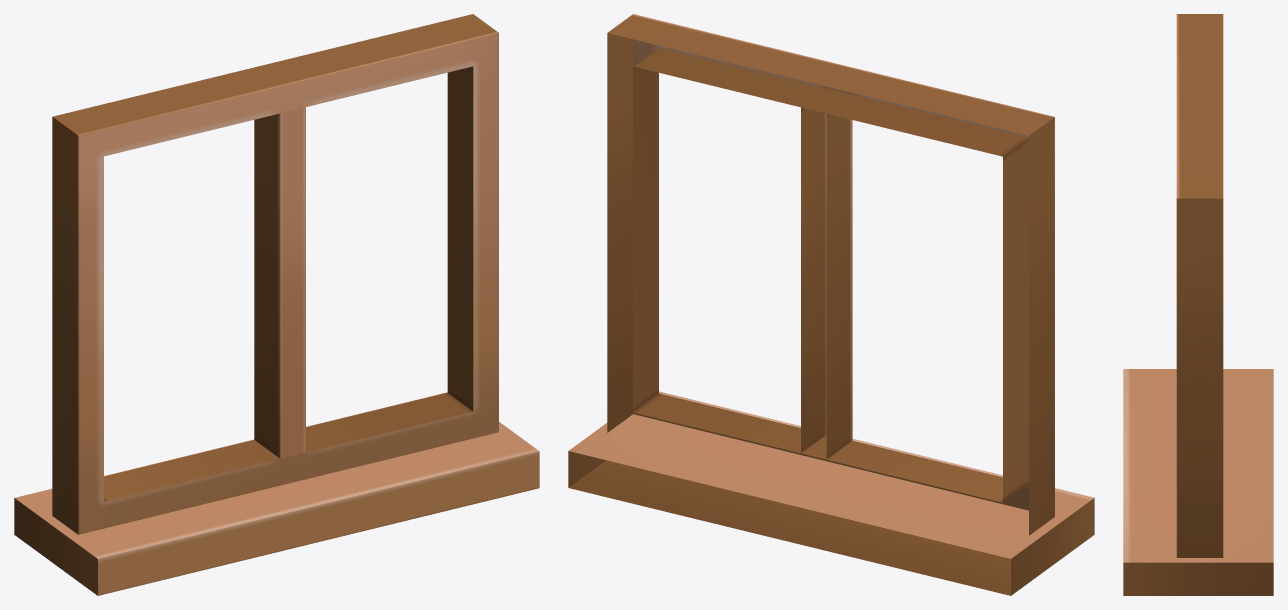
File: Window.FBX
3 views of the same model, side by side, from view 1: azimuth 30°, elevation 25°; view 2: azimuth 150°, elevation 25°; view 3: azimuth 270°, elevation 25° (orthographic). The views are drawn at different scales.
Parts seen in each view (by area): view 1: Box073; view 2: Box073; view 3: Box073.
Boxes of the visible parts, box(x1,y1,x2,y2) form: Box073: box(14, 14, 539, 595); Box073: box(568, 14, 1094, 595); Box073: box(1123, 14, 1273, 595).
Bounding box in the file's own units: 10.96 × 10.35 × 3.59.
